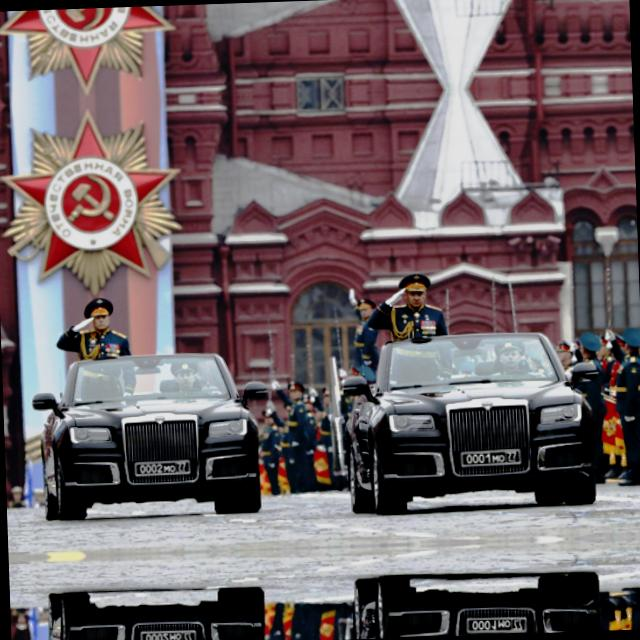military: (458, 446, 524, 468), (464, 613, 529, 635), (132, 457, 192, 478), (137, 625, 198, 640)
